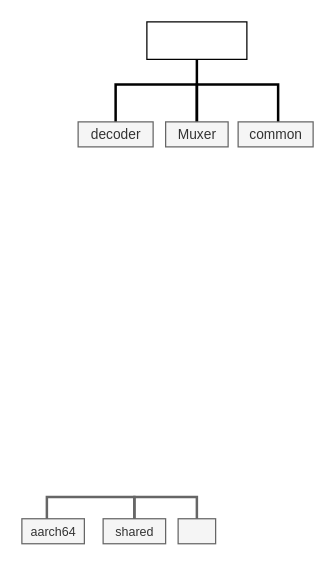
Some shapes in this 335 by 566 pixel diagram are drawn without their labels. Each missing label, with the centre of its shape:
"binary" goes at (x=196, y=40).
"x86" goes at (x=196, y=531).
